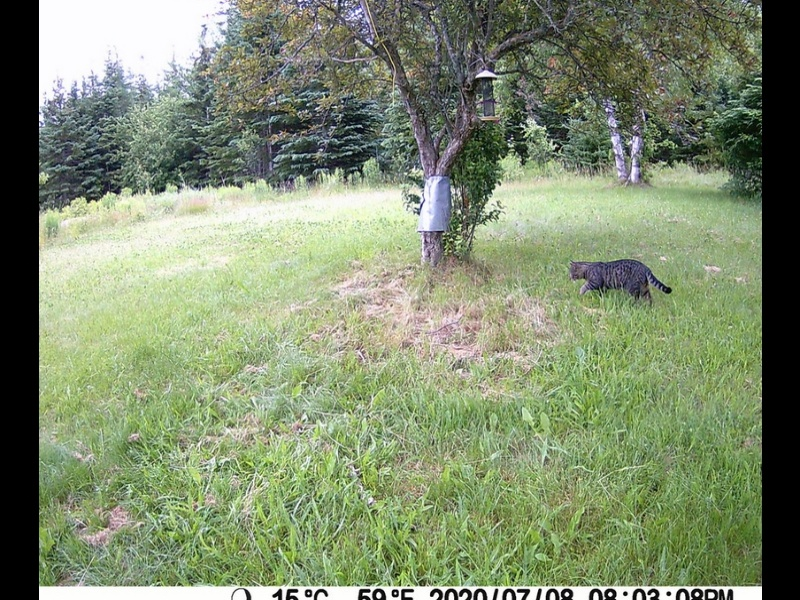cat: (567, 256, 675, 310)
